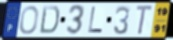3: (65, 4, 86, 37), (113, 5, 130, 36)
D: (38, 5, 61, 36)
L: (87, 6, 104, 35)
O: (18, 5, 40, 36)
T: (135, 4, 154, 37)
